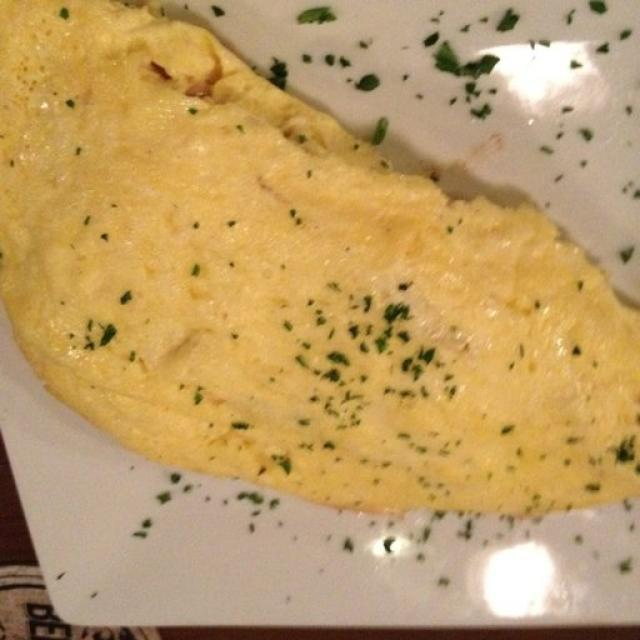telur_ayam_dadar: (1, 1, 640, 521)
